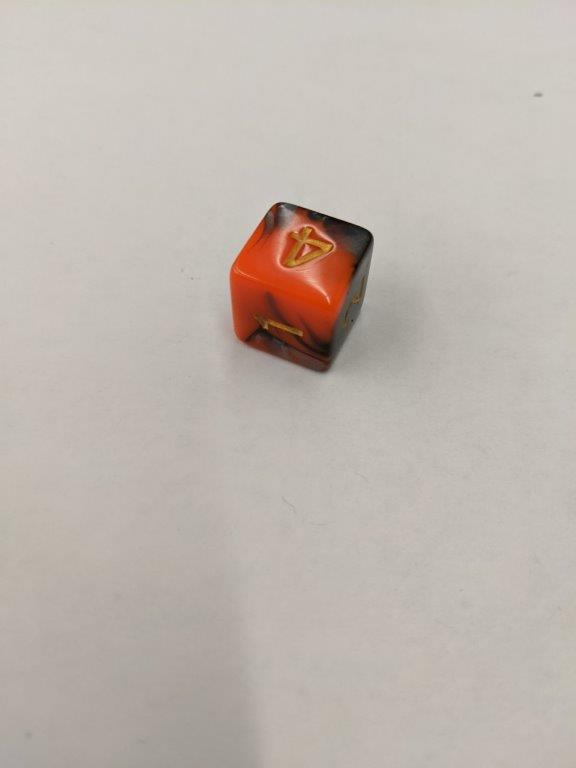d6-4: (229, 199, 374, 373)
